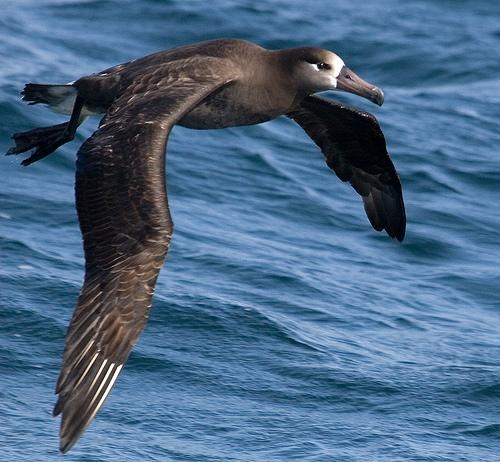bird: (8, 35, 411, 443)
